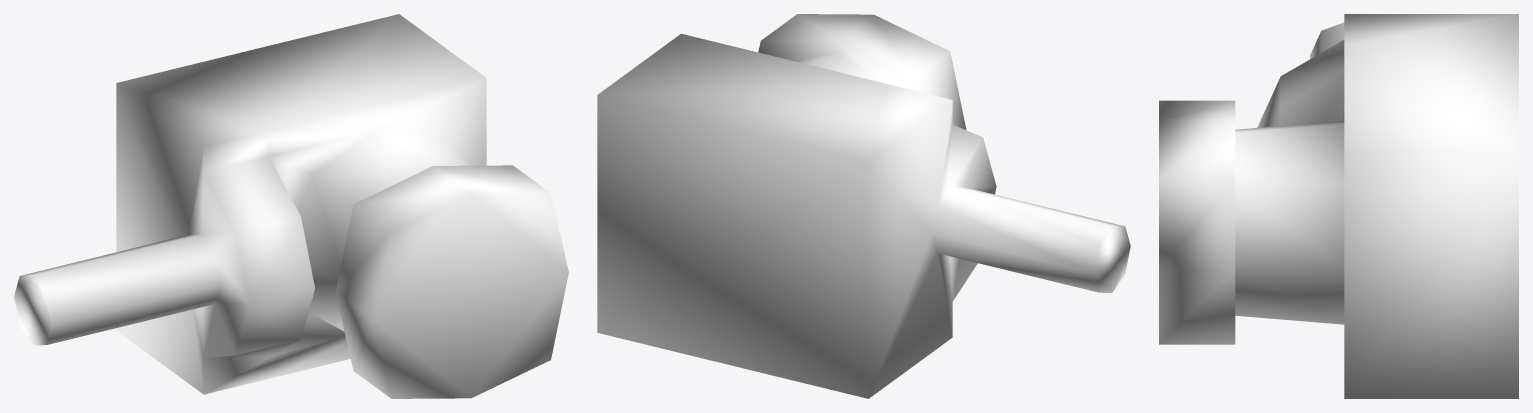
The model's file is multisense_hokuyo.obj.
The picture shows the model from 3 angles, left to right: view 1: azimuth 30°, elevation 25°; view 2: azimuth 150°, elevation 25°; view 3: azimuth 270°, elevation 25°; orthographic projection. The views are drawn at different scales.
Size of the model in its own units: 0.1293 by 0.0678 by 0.0894.
Materials: 1 (1 with a texture image).
